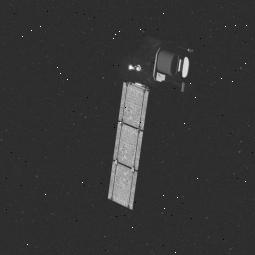earth_observation_sat_1: (102, 31, 210, 150)
